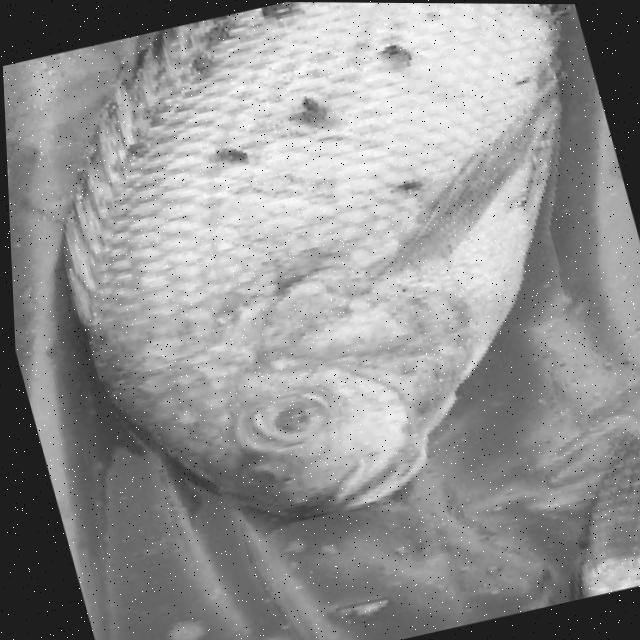Non-Fresh: (31, 0, 640, 547)
